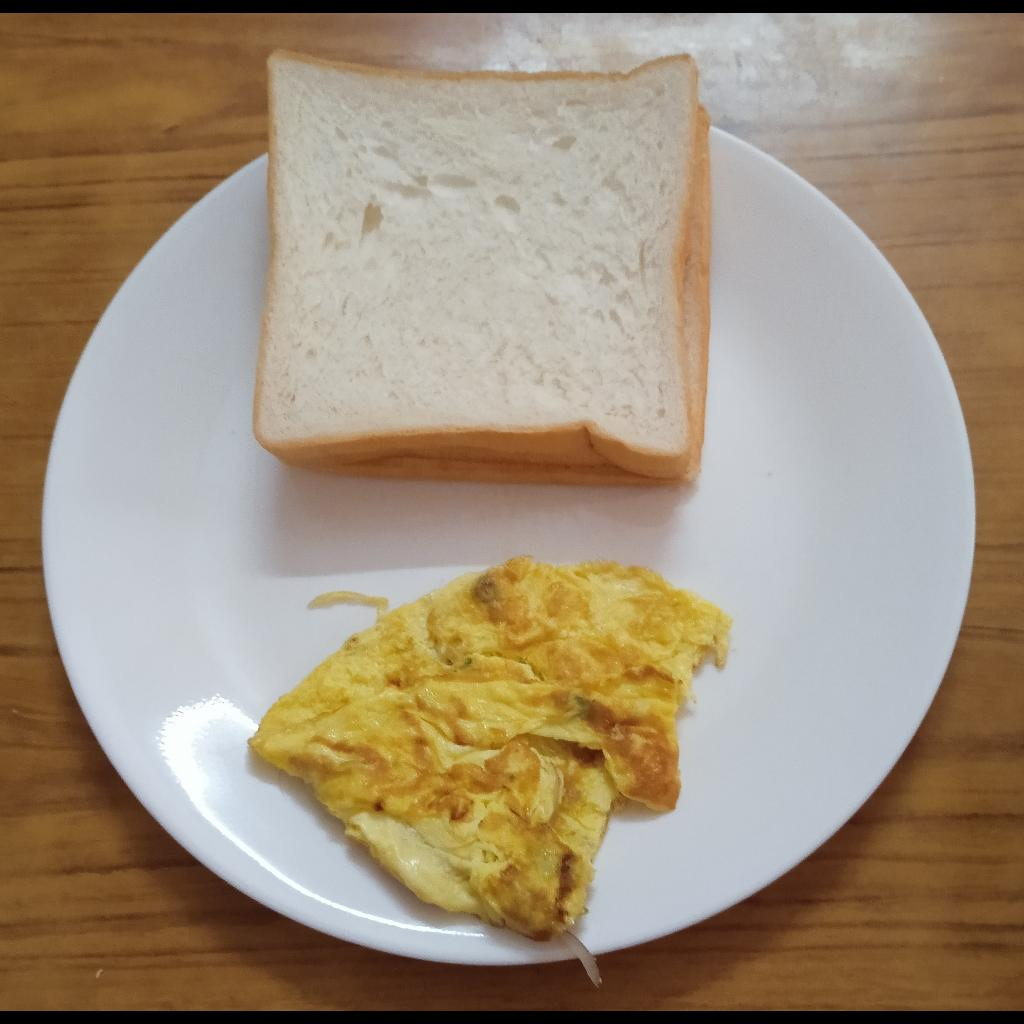bread: (252, 47, 710, 490)
egg-poached: (249, 556, 737, 943)
